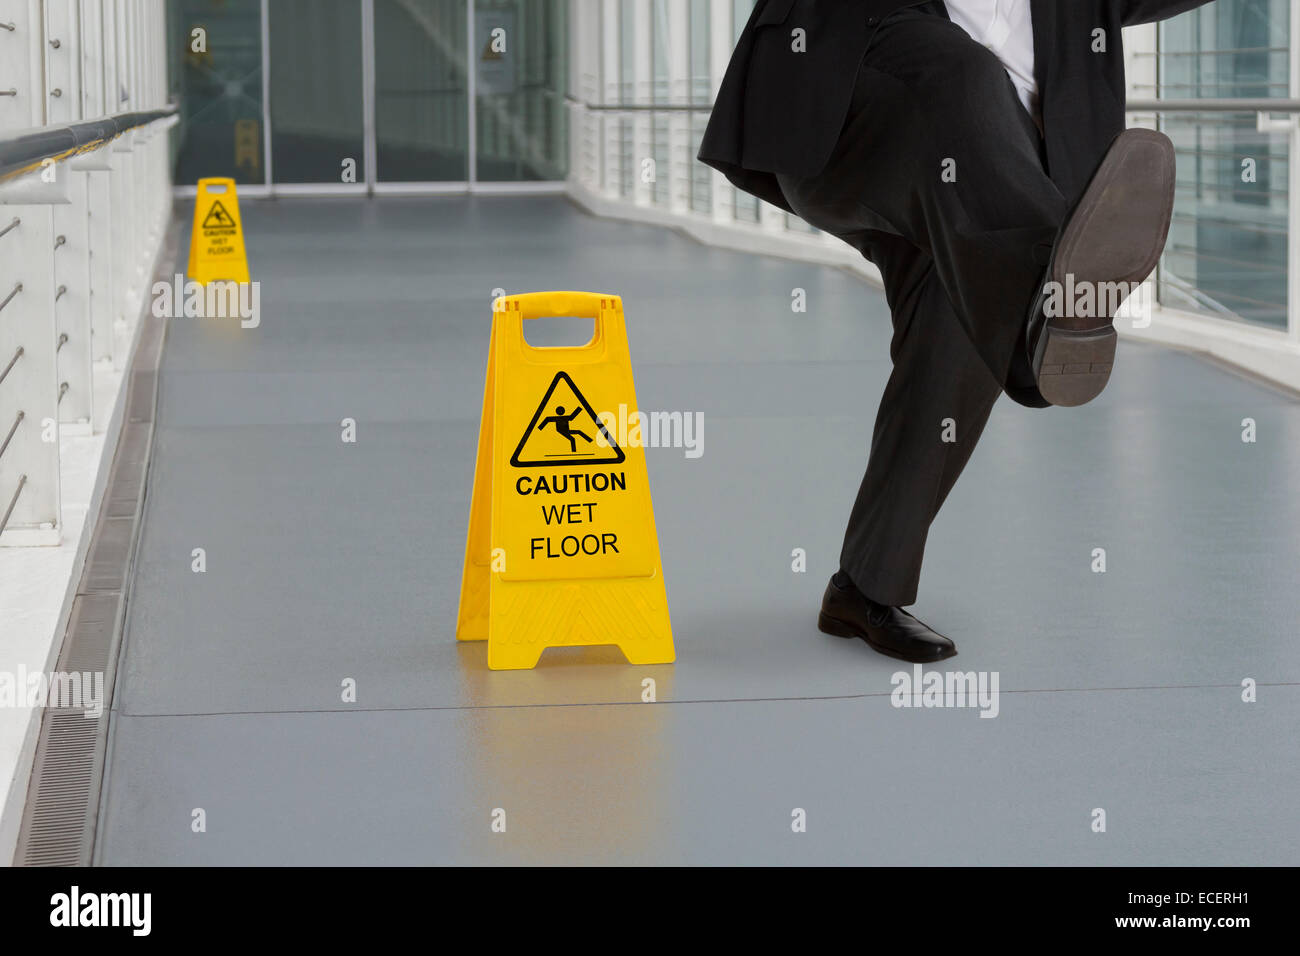wet caution sign: (445, 253, 699, 665), (174, 151, 241, 325)
